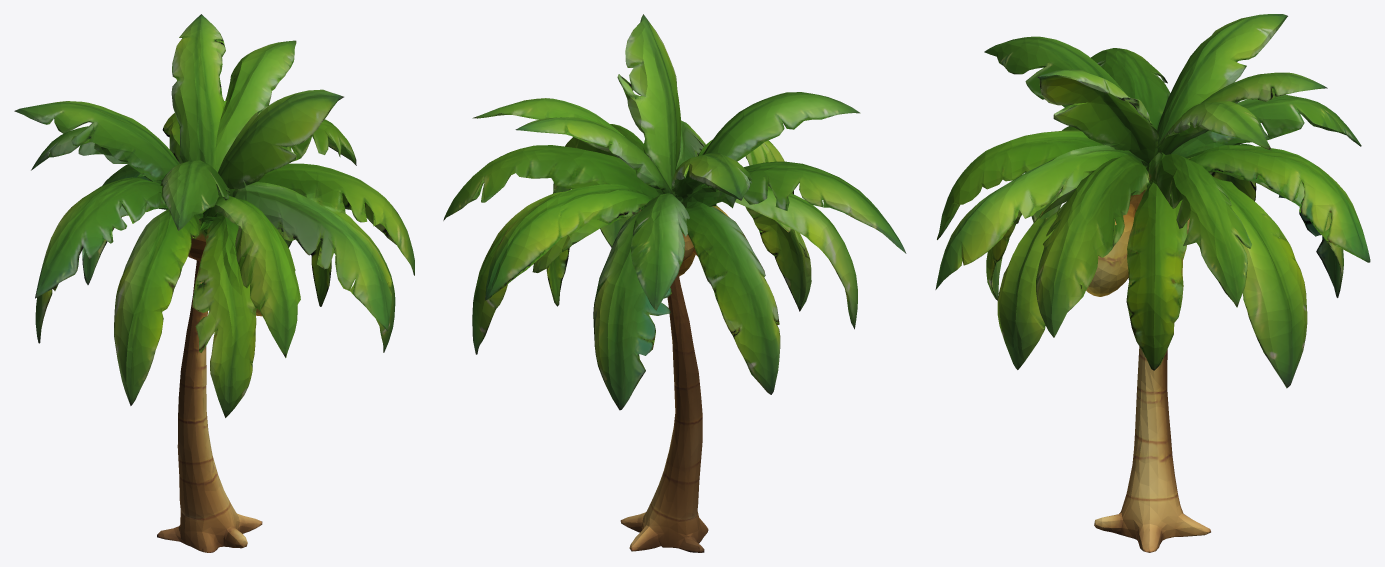
File: Palm.glb
3 renders of one model, left to right at view 1: azimuth 30°, elevation 25°; view 2: azimuth 150°, elevation 25°; view 3: azimuth 270°, elevation 25°, orthographic. The views are drawn at different scales.
Parts seen in each view (by area): view 1: world; view 2: world; view 3: world.
Part boxes in pixels (x1,y1,x2,y2): world: (14,14,414,552); world: (443,14,906,552); world: (935,14,1370,552).
Size of the model in its own units: 0.8902 by 1 by 0.7974.
1 material, 1 textured.
